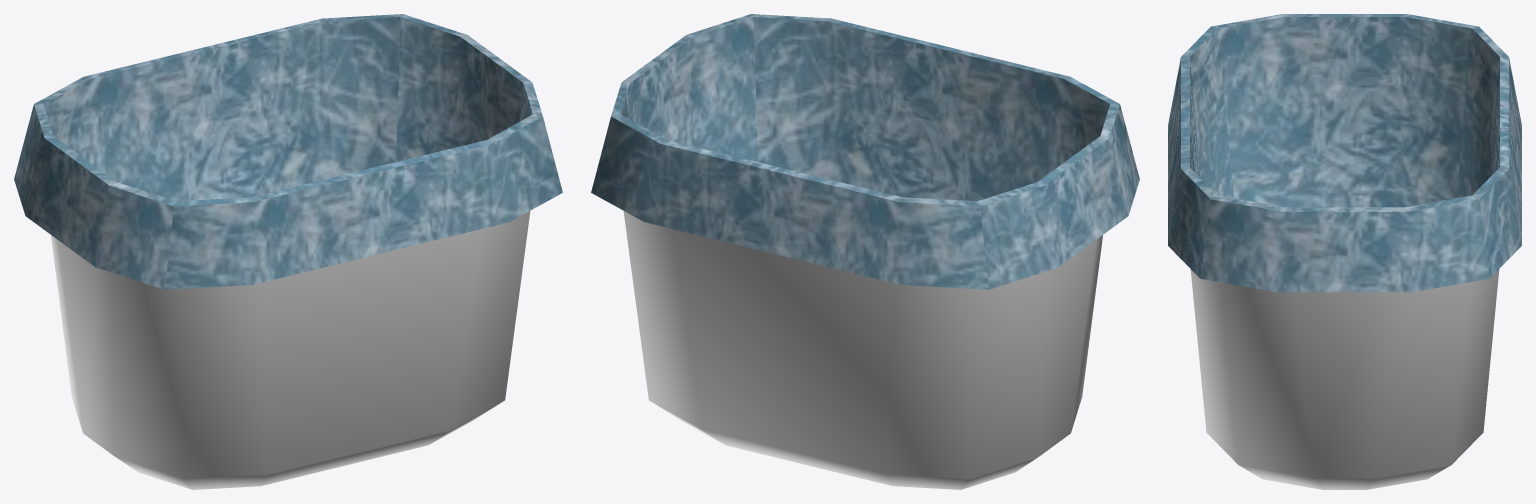
Rendered from Trash_can.glb.
3 renders of one model, left to right at view 1: azimuth 30°, elevation 25°; view 2: azimuth 150°, elevation 25°; view 3: azimuth 270°, elevation 25°, orthographic. The views are drawn at different scales.
Parts seen in each view (by area): view 1: Trash_can; view 2: Trash_can; view 3: Trash_can.
Part boxes in pixels (box(x1,y1,x2,y2)): Trash_can: box(14, 14, 562, 489); Trash_can: box(591, 14, 1139, 489); Trash_can: box(1168, 14, 1521, 489).
Bounding box in the file's own units: 0.5582 × 0.369 × 0.3912.
2 materials, 1 textured.
